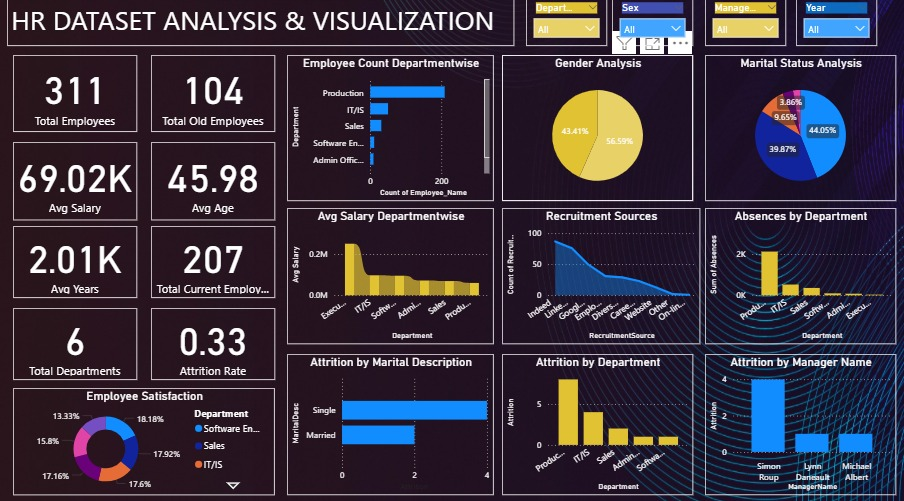

This screenshot's page, from the dashboard's own definition file:
{"tool":"powerbi","page":{"name":"Page 1","canvas":[1280,720],"ordinal":0},"visuals":[{"type":"textbox","box":[9.9,1.4,718.6,68],"z":0},{"type":"card","fields":{"Values":["AllEmployees.Total Employees"]},"box":[18.4,82.2,175.7,109.1],"z":1000},{"type":"card","fields":{"Values":["AllEmployees.Total Old Employees"]},"box":[214,82.2,175.7,109.1],"z":2000},{"type":"card","fields":{"Values":["AllEmployees.Avg Salary"]},"box":[18.4,205.5,175.7,110.6],"z":3000},{"type":"card","fields":{"Values":["AllEmployees.Avg Age"]},"box":[214,205.5,175.7,110.6],"z":4000},{"type":"card","fields":{"Values":["AllEmployees.Total Current Employees"]},"box":[214,324.6,175.7,102],"z":5000},{"type":"card","fields":{"Values":["AllEmployees.Attrition Rate"]},"box":[214,440.8,175.7,102],"z":6000},{"type":"card","fields":{"Values":["AllEmployees.Avg Years"]},"box":[18.4,324.6,175.7,102],"z":7000},{"type":"card","fields":{"Values":["AllEmployees.Total Departments"]},"box":[18.4,440.8,175.7,102],"z":8000},{"type":"clusteredBarChart","title":"Employee Count Departmentwise","fields":{"Category":["AllEmployees.Department"],"Y":["AllEmployees.Employee_Name"]},"box":[406.8,82.2,293.4,206.9],"z":9000},{"type":"pieChart","title":"Gender Analysis","fields":{"Category":["AllEmployees.Sex"],"Y":["AllEmployees.Sex"]},"box":[711.5,82.2,270.7,206.9],"z":10000},{"type":"pieChart","title":"Marital Status Analysis","fields":{"Category":["AllEmployees.MaritalDesc"],"Y":["AllEmployees.MaritalDesc"]},"box":[999.2,82.2,270.7,206.9],"z":11000},{"type":"ribbonChart","title":"Avg Salary Departmentwise","fields":{"Category":["AllEmployees.Department"],"Y":["AllEmployees.Avg Salary"]},"box":[406.8,299.1,293.4,192.8],"z":12000},{"type":"clusteredColumnChart","title":"Absences by Department","fields":{"Category":["AllEmployees.Department"],"Y":["AllEmployees.Absences"]},"box":[999.2,299.1,270.7,192.8],"z":13000},{"type":"areaChart","title":"Recruitment Sources","fields":{"Category":["AllEmployees.RecruitmentSource"],"Y":["AllEmployees.RecruitmentSource"]},"box":[711.5,299.1,280.6,192.8],"z":14000},{"type":"donutChart","title":"Employee Satisfaction","fields":{"Category":["AllEmployees.Department"],"Y":["AllEmployees.EmpSatisfaction"]},"box":[18.4,554.2,371.3,151.7],"z":15000},{"type":"columnChart","title":"Attrition by Department","fields":{"Category":["AllEmployees.Department"],"Y":["AllEmployees.Attrition"]},"box":[711.5,506,270.7,199.8],"z":16000},{"type":"columnChart","title":"Attrition by Manager Name","fields":{"Category":["AllEmployees.ManagerName"],"Y":["AllEmployees.Attrition"]},"box":[999.2,506,270.7,199.8],"z":17000},{"type":"clusteredBarChart","title":"Attrition by Marital Description","fields":{"Category":["AllEmployees.MaritalDesc"],"Y":["AllEmployees.Attrition"]},"box":[406.8,506,293.4,199.8],"z":18000},{"type":"slicer","title":"Attrition by Marital Description","fields":{"Values":["AllEmployees.Department"]},"box":[745.5,1.4,114.8,68],"z":19000},{"type":"slicer","title":"Attrition by Marital Description","fields":{"Values":["AllEmployees.Sex"]},"box":[867.4,1.4,114.8,68],"z":20000},{"type":"slicer","title":"Attrition by Marital Description","fields":{"Values":["AllEmployees.ManagerName"]},"box":[999.2,1.4,114.8,68],"z":21000},{"type":"slicer","title":"Attrition by Marital Description","fields":{"Values":["AllEmployees.Year"]},"box":[1128.2,1.4,114.8,68],"z":22000}]}

Visuals, with their boxes in screenshot pixels (x1, y1, x2, y2), scaled from the page's 1280x720 canvas onto the 904x501 screenshot:
textbox: (7,1,515,48)
card - AllEmployees.Total Employees: (13,57,137,133)
card - AllEmployees.Total Old Employees: (151,57,275,133)
card - AllEmployees.Avg Salary: (13,143,137,220)
card - AllEmployees.Avg Age: (151,143,275,220)
card - AllEmployees.Total Current Employees: (151,226,275,297)
card - AllEmployees.Attrition Rate: (151,307,275,378)
card - AllEmployees.Avg Years: (13,226,137,297)
card - AllEmployees.Total Departments: (13,307,137,378)
"Employee Count Departmentwise" clusteredBarChart: (287,57,495,201)
"Gender Analysis" pieChart: (502,57,694,201)
"Marital Status Analysis" pieChart: (706,57,897,201)
"Avg Salary Departmentwise" ribbonChart: (287,208,495,342)
"Absences by Department" clusteredColumnChart: (706,208,897,342)
"Recruitment Sources" areaChart: (502,208,701,342)
"Employee Satisfaction" donutChart: (13,386,275,491)
"Attrition by Department" columnChart: (502,352,694,491)
"Attrition by Manager Name" columnChart: (706,352,897,491)
"Attrition by Marital Description" clusteredBarChart: (287,352,495,491)
"Attrition by Marital Description" slicer: (527,1,608,48)
"Attrition by Marital Description" slicer: (613,1,694,48)
"Attrition by Marital Description" slicer: (706,1,787,48)
"Attrition by Marital Description" slicer: (797,1,878,48)
